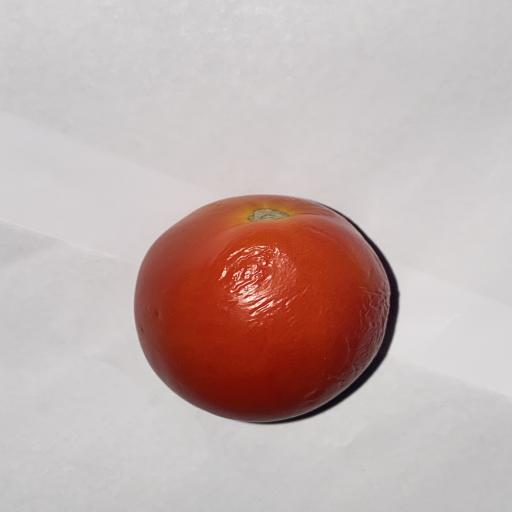spoiled: (135, 195, 390, 422)
